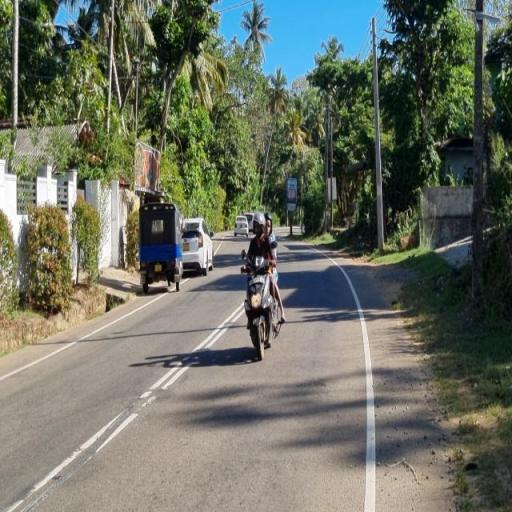double_white_line: (140, 299, 242, 408)
